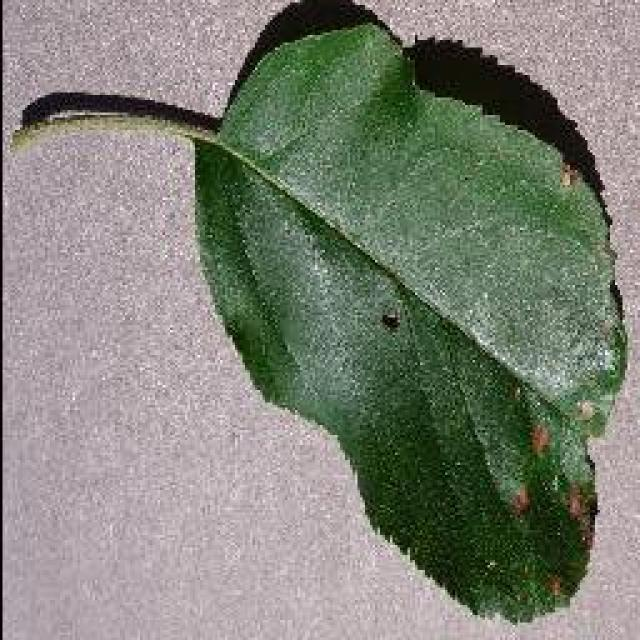Black_rot: (10, 0, 630, 625)
